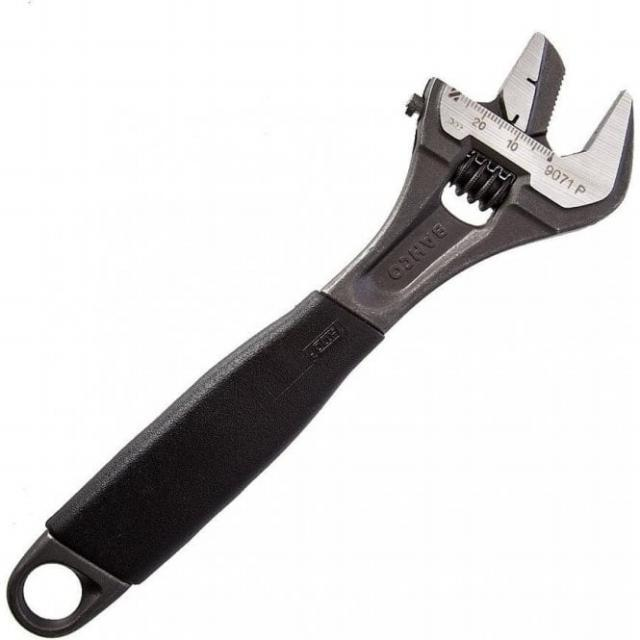wrench: (0, 28, 639, 637)
